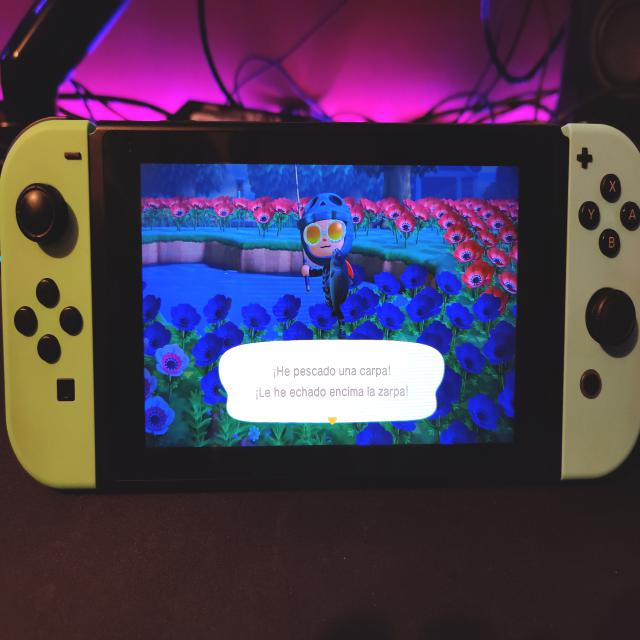text_bubble: (218, 337, 446, 429)
